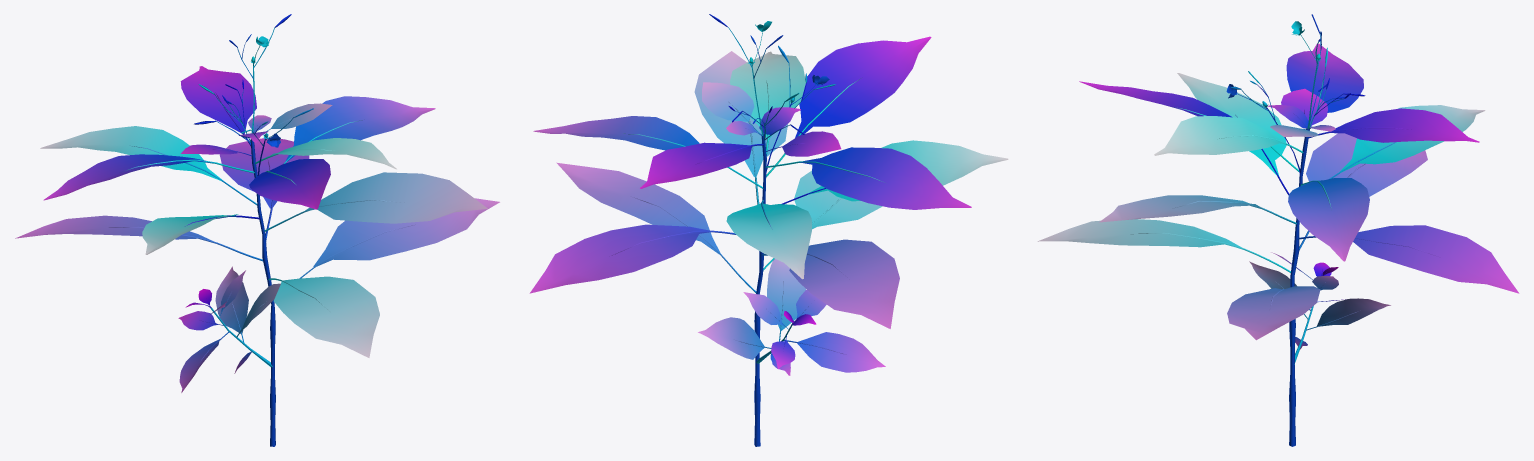
The model's file is xefmcgrqx_VarC_LOD0.fbx.
3 views of the same model, side by side, from view 1: azimuth 30°, elevation 25°; view 2: azimuth 150°, elevation 25°; view 3: azimuth 270°, elevation 25° (orthographic). The views are drawn at different scales.
Visible parts, largest first — view 1: _rdd6_VarC_LOD1; view 2: _rdd6_VarC_LOD1; view 3: _rdd6_VarC_LOD1.
Part boxes in pixels (left/top/right/bottom): _rdd6_VarC_LOD1: left=15, top=14, right=499, bottom=446; _rdd6_VarC_LOD1: left=529, top=14, right=1008, bottom=446; _rdd6_VarC_LOD1: left=1037, top=14, right=1519, bottom=446.
Bounding box in the file's own units: 48.67 × 45.12 × 46.81.
